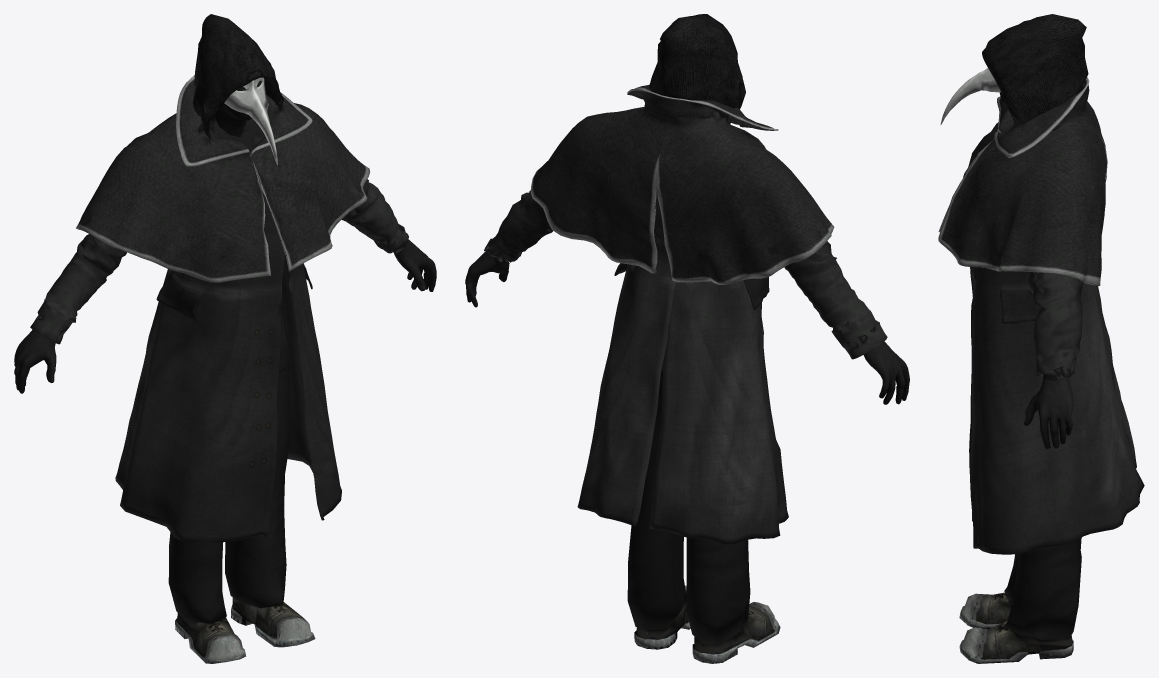
File: scp-049.glb
The picture shows the model from 3 angles, left to right: view 1: azimuth 30°, elevation 25°; view 2: azimuth 150°, elevation 25°; view 3: azimuth 270°, elevation 25°; orthographic projection. The views are drawn at different scales.
Parts seen in each view (by area): view 1: scp049_reference.smd; view 2: scp049_reference.smd; view 3: scp049_reference.smd.
Boxes of the visible parts, box(x1,y1,x2,y2) form: scp049_reference.smd: box(14, 14, 436, 663); scp049_reference.smd: box(465, 14, 909, 663); scp049_reference.smd: box(938, 14, 1144, 663).
Size of the model in its own units: 1.02 by 1.4 by 0.421.
5 materials, 3 textured.
